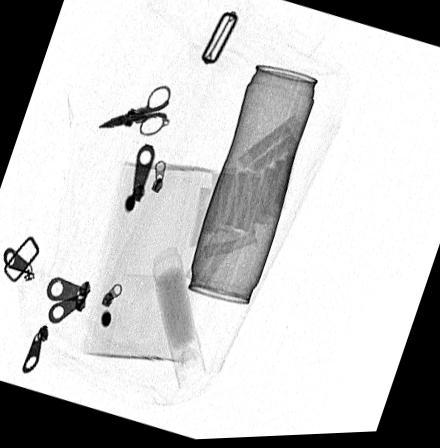Scissors: (96, 84, 171, 139)
